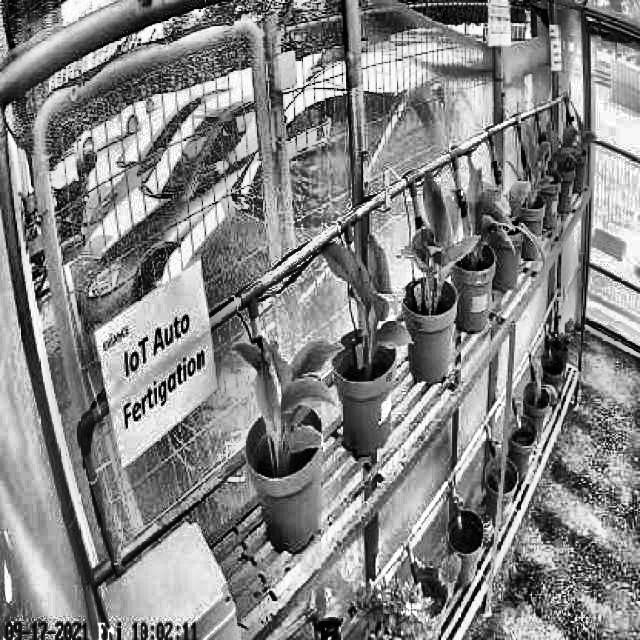plants: (232, 338, 346, 456), (323, 238, 412, 354), (403, 170, 471, 298), (464, 160, 516, 266), (523, 125, 554, 208)
